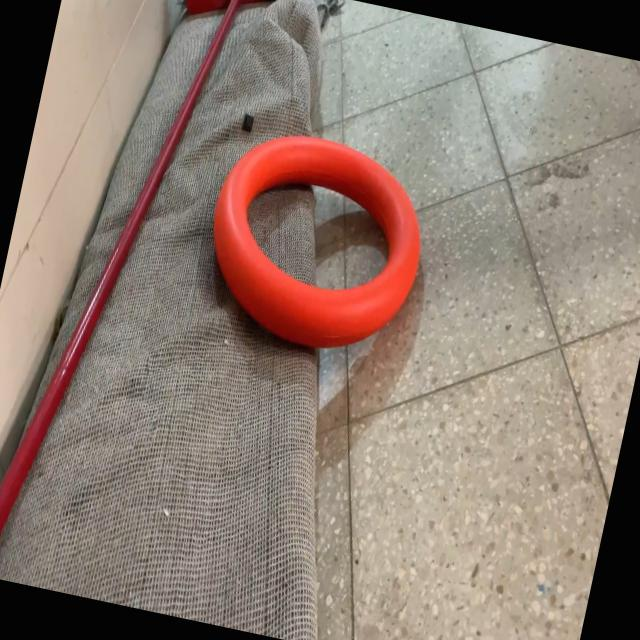note: (188, 116, 442, 370)
